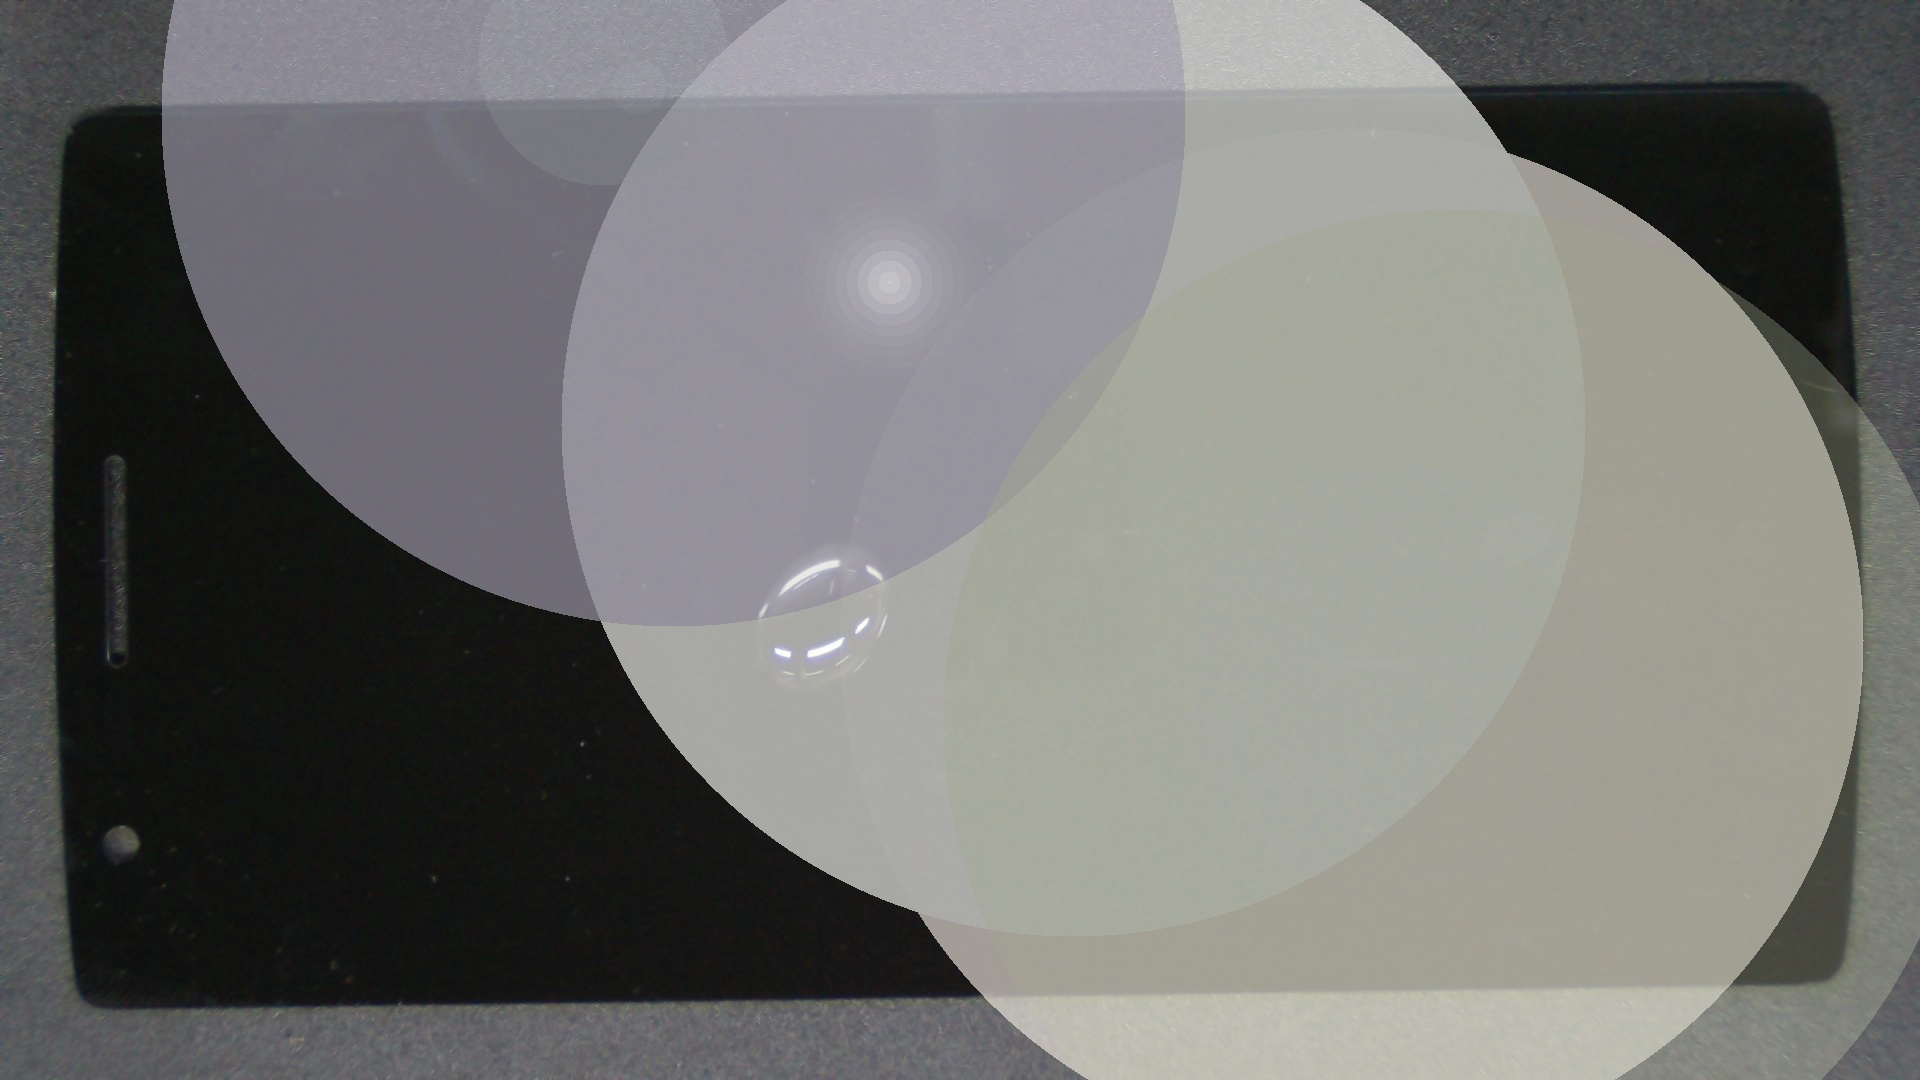oil: (415, 270, 1245, 814)
